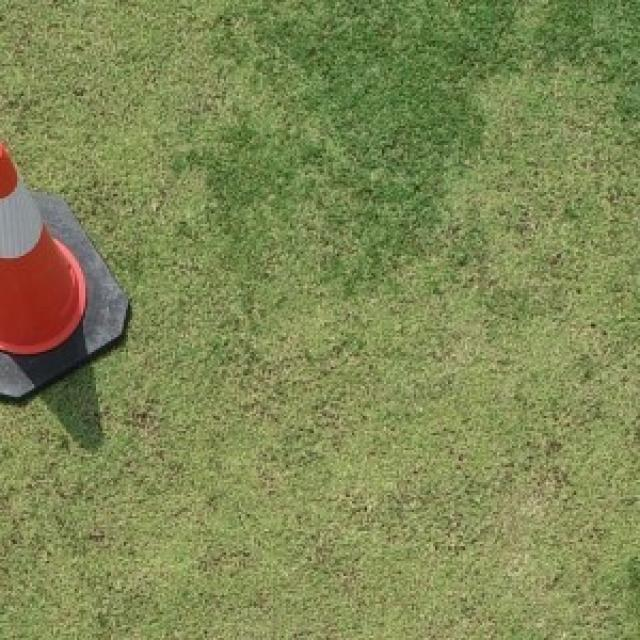traffic cone: (0, 130, 130, 404), (0, 133, 87, 401)
